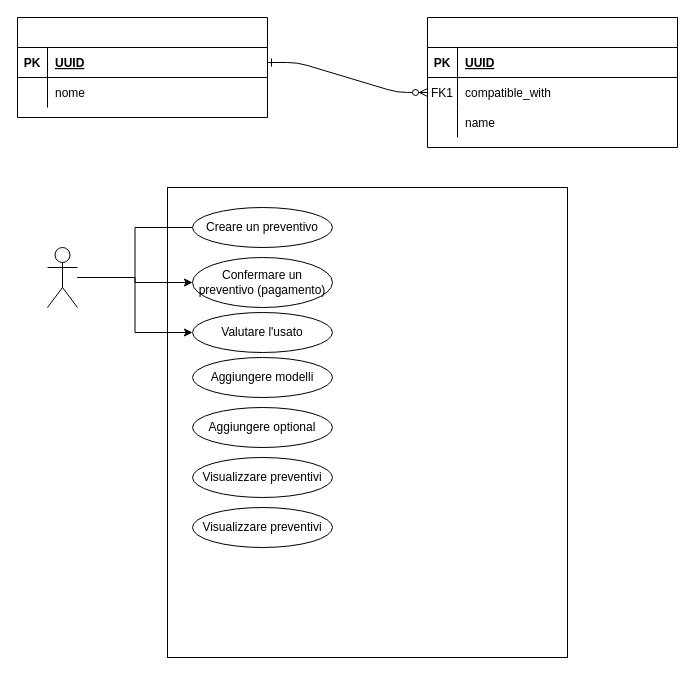
This 695x675 diagram has some shape labels left out. Here are the shapes that lost their labels. From the top down, the box of each, then its label:
(16, 16, 268, 118): Macchina
(426, 16, 678, 148): Optional
(46, 246, 78, 308): Mario
